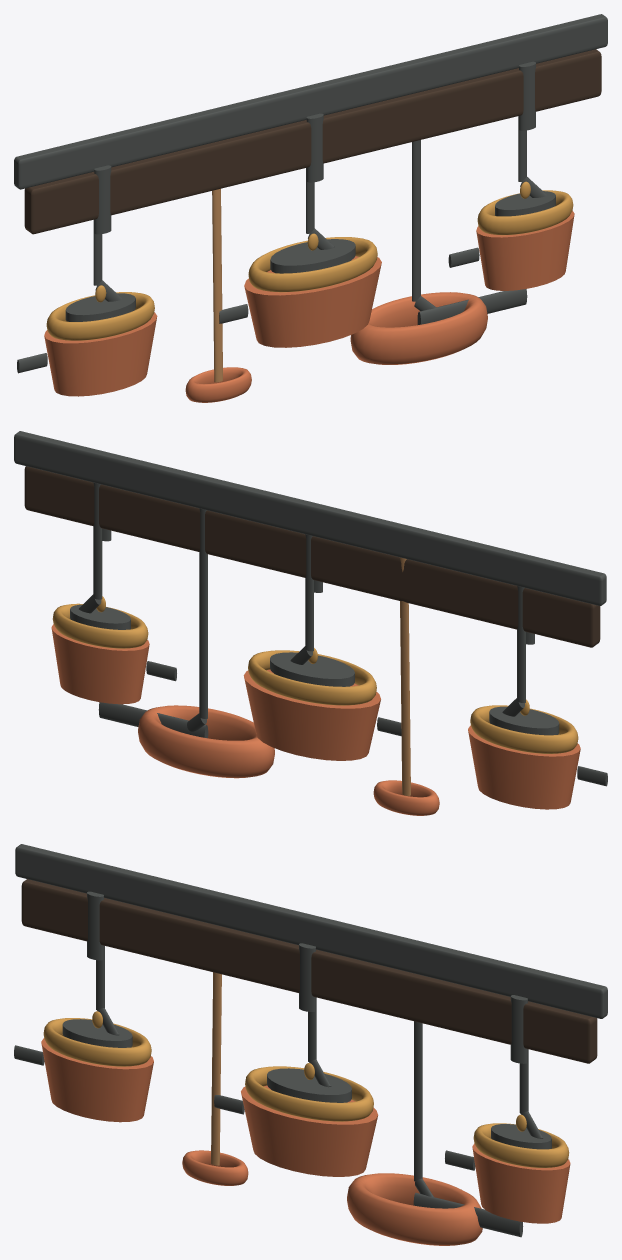
Rendered from detail_hanging_pots.glb.
3 renders of one model, top to bottom at view 1: azimuth 30°, elevation 25°; view 2: azimuth 150°, elevation 25°; view 3: azimuth 330°, elevation 25°, orthographic.
Visible parts, largest first — view 1: wood, metal, stone; view 2: wood, metal, stone; view 3: wood, metal, stone.
Part boxes in pixels (left/top/right/bottom): wood: left=17, top=49, right=601, bottom=402; metal: left=44, top=61, right=574, bottom=396; stone: left=14, top=14, right=607, bottom=189; wood: left=24, top=466, right=607, bottom=815; metal: left=51, top=482, right=580, bottom=809; stone: left=14, top=431, right=606, bottom=605; wood: left=14, top=879, right=597, bottom=1245; metal: left=41, top=891, right=570, bottom=1223; stone: left=15, top=844, right=607, bottom=1018.
Size of the model in its own units: 2.6 by 1.2 by 0.3.
